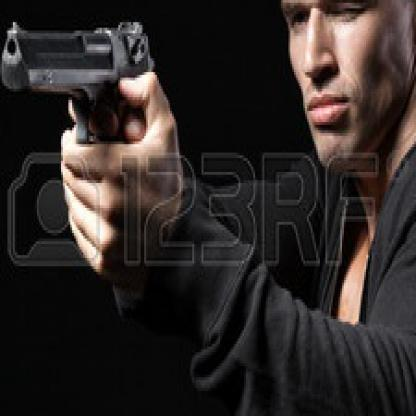gun: (0, 22, 161, 150)
